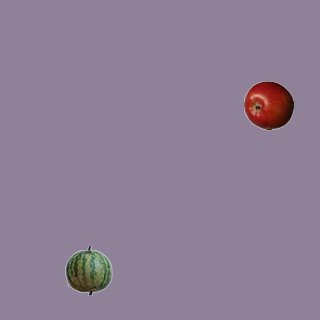Apple Braeburn: (243, 80, 293, 130)
Watermelon: (63, 245, 113, 295)
